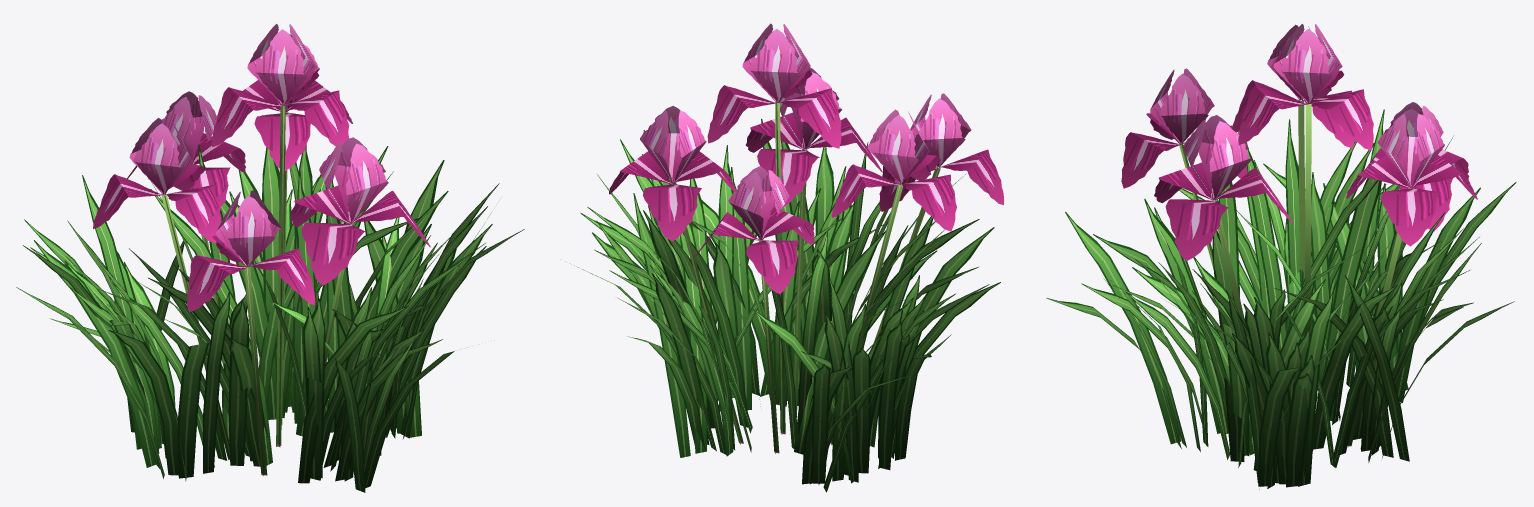
File: mm7_deco_flower08.glb
3 views of the same model, side by side, from view 1: azimuth 30°, elevation 25°; view 2: azimuth 150°, elevation 25°; view 3: azimuth 270°, elevation 25° (orthographic). The views are drawn at different scales.
Visible parts, largest first — view 1: Plant; view 2: Plant; view 3: Plant.
Boxes of the visible parts, left/top/right/bottom form: Plant: left=16, top=24, right=524, bottom=492; Plant: left=569, top=23, right=1003, bottom=492; Plant: left=1046, top=24, right=1516, bottom=489.
Bounding box in the file's own units: 1.55 × 1.44 × 1.51.
Materials: 1 (1 with a texture image).
